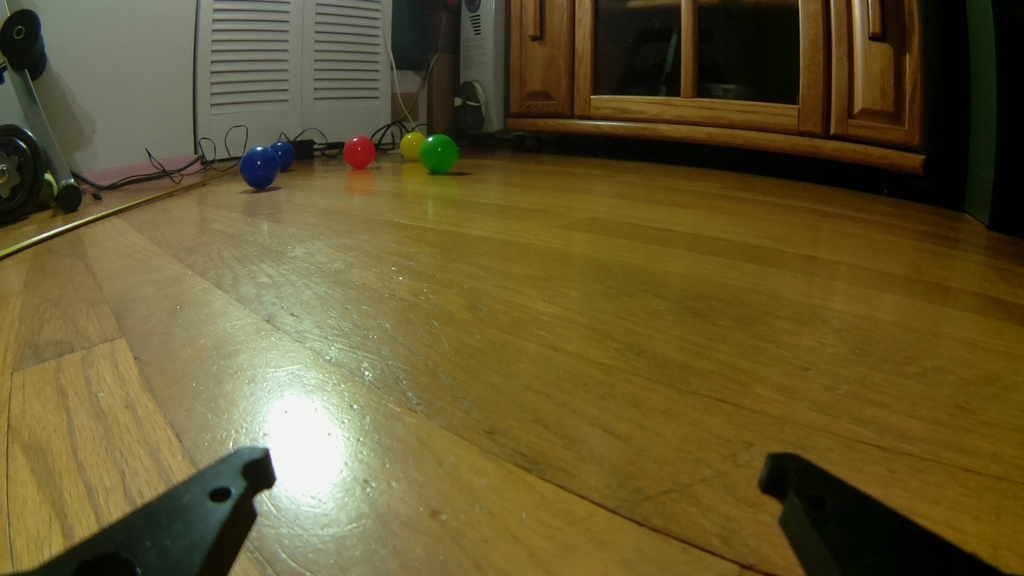ball: (240, 145, 280, 190)
